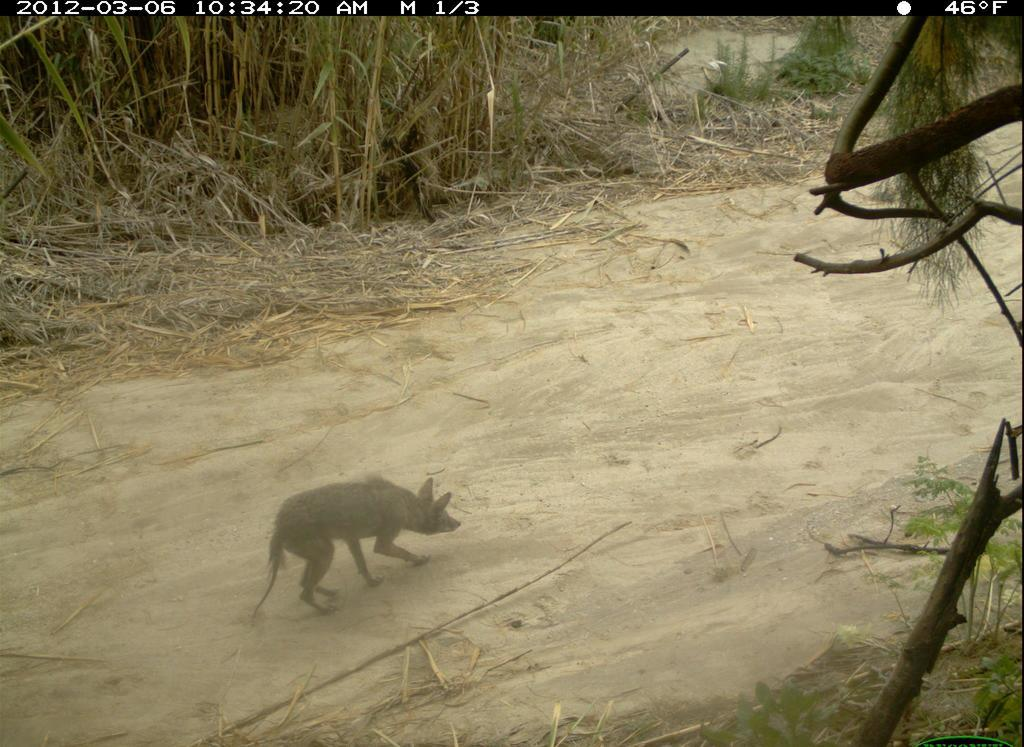coyote: (248, 470, 468, 621)
